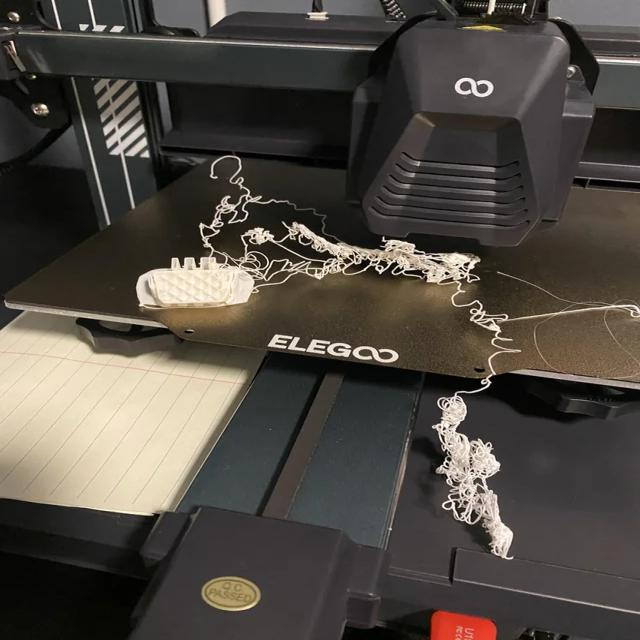Spaghetti: (138, 164, 522, 564)
